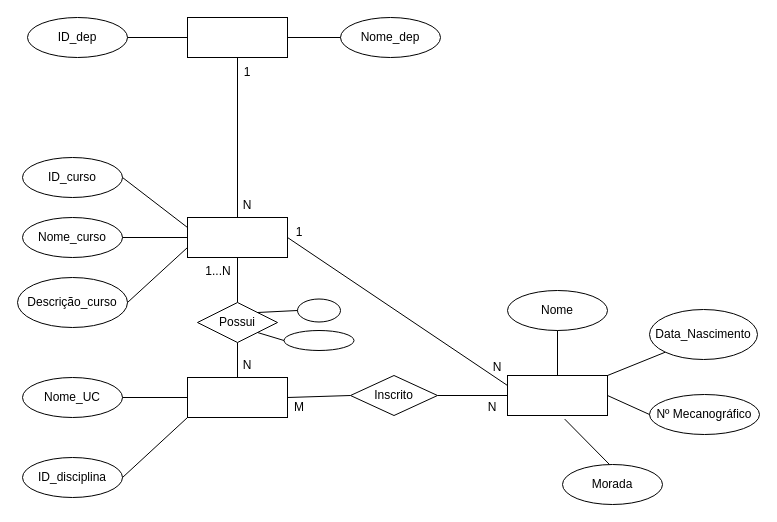
This 777x522 diagram has some shape labels left out. Each missing label, with the box of its shape:
Aluno: (506, 374, 608, 416)
Ano: (296, 298, 340, 322)
Curso: (186, 216, 288, 258)
Departamento: (186, 16, 288, 58)
Disciplinas: (186, 376, 288, 418)
Semestre: (283, 330, 354, 350)
